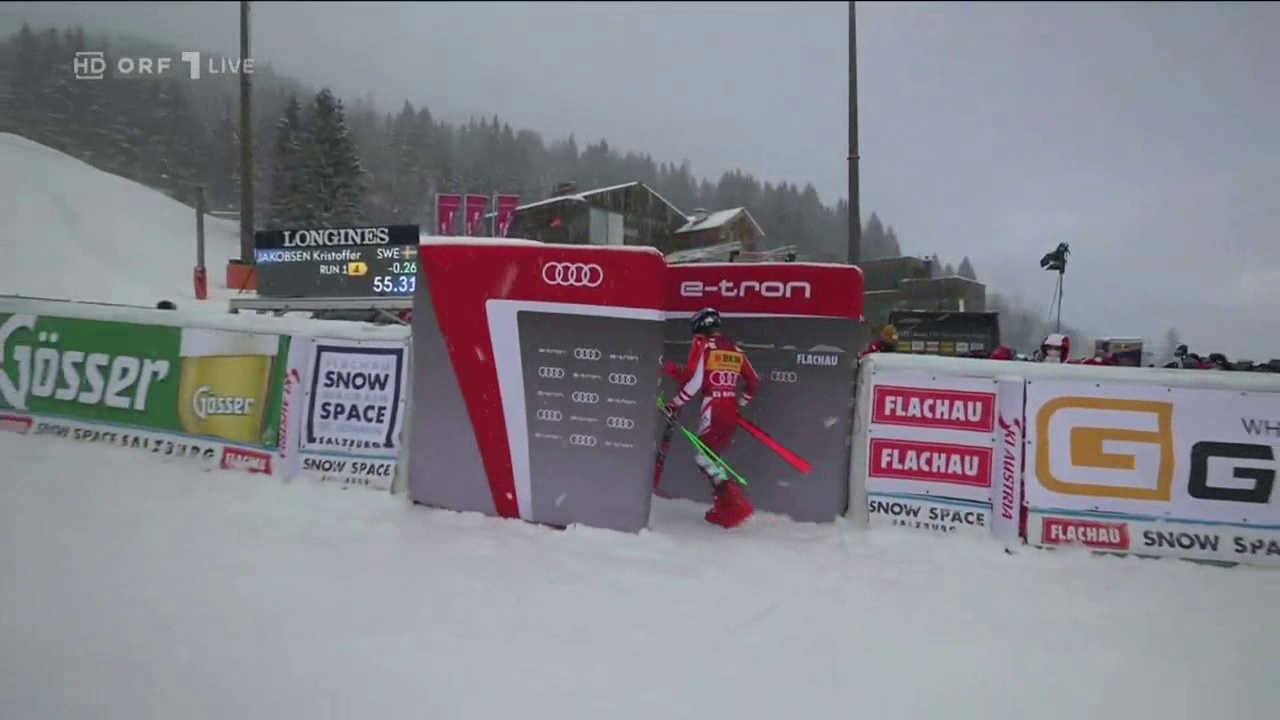audi: (542, 260, 608, 293), (767, 371, 804, 388), (534, 408, 569, 425), (603, 418, 640, 434), (606, 374, 644, 389), (566, 434, 601, 450), (572, 348, 605, 364), (535, 367, 570, 381), (572, 392, 604, 405)
etron: (662, 272, 833, 306)
flachau: (872, 439, 994, 488), (874, 388, 996, 433), (1034, 518, 1129, 554)
goesser: (4, 310, 240, 430), (186, 377, 268, 425)
